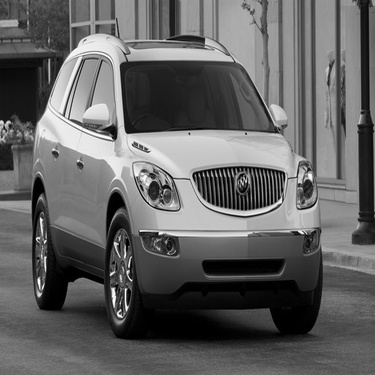car: (17, 25, 331, 348)
